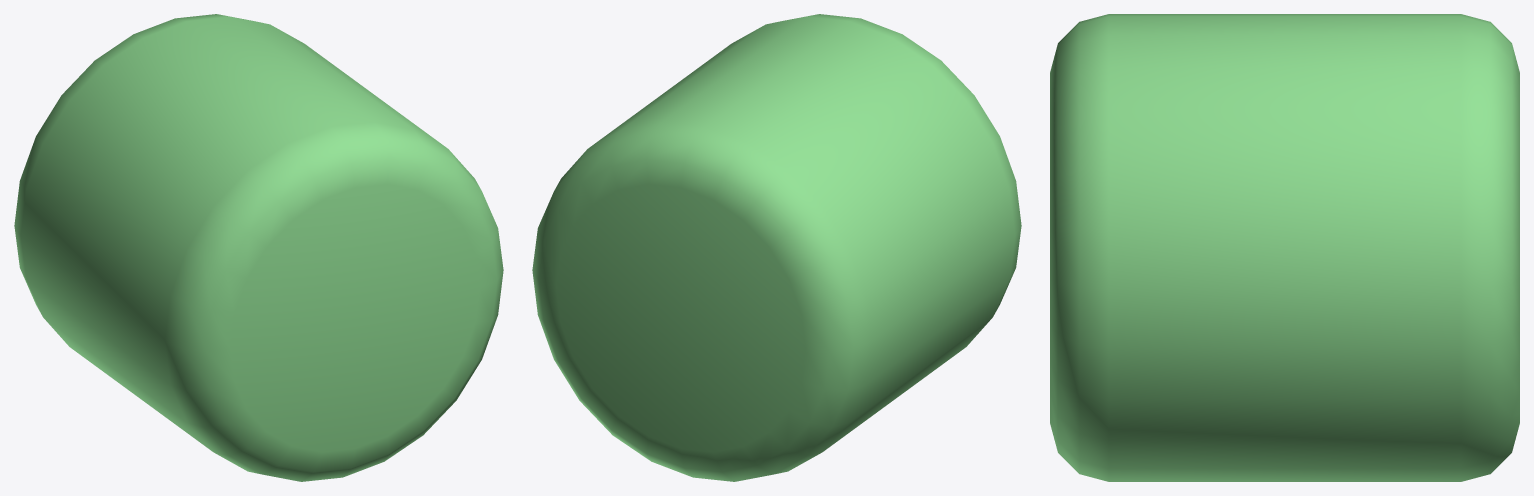
File: DragonBody.fbx
3 renders of one model, left to right at view 1: azimuth 30°, elevation 25°; view 2: azimuth 150°, elevation 25°; view 3: azimuth 270°, elevation 25°, orthographic. The views are drawn at different scales.
Visible parts, largest first — view 1: obj_0; view 2: obj_0; view 3: obj_0.
Boxes of the visible parts, bbox=[...] form: obj_0: bbox=[14, 14, 503, 481]; obj_0: bbox=[532, 14, 1021, 481]; obj_0: bbox=[1050, 14, 1519, 481].
Bounding box in the file's own units: 20 × 20 × 20.
